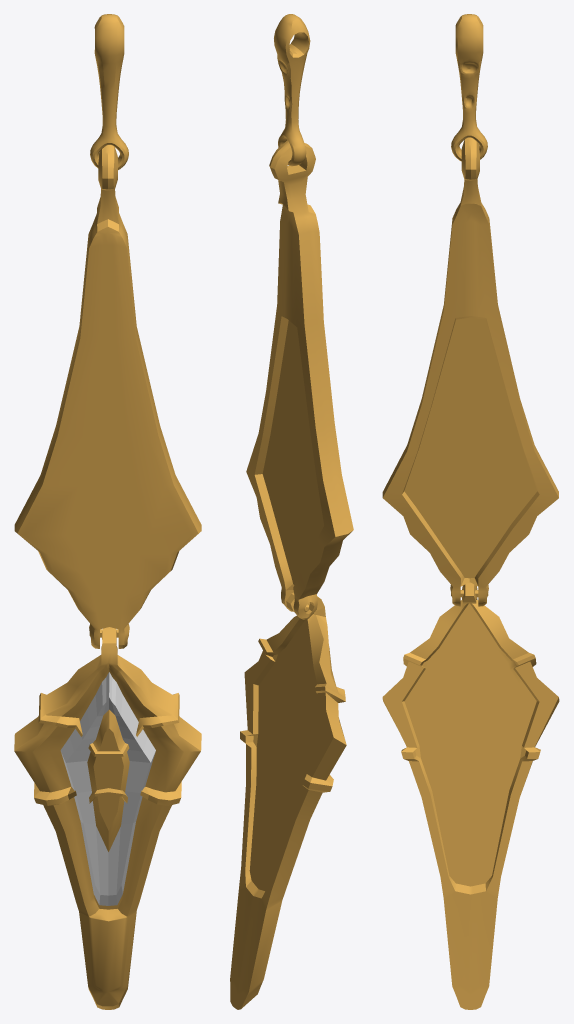
The model's file is MDL_Single_Parts_Medallion_01.fbx.
3 views of the same model, side by side, from view 1: azimuth 90°, elevation 25°; view 2: azimuth 210°, elevation 25°; view 3: azimuth 270°, elevation 25° (orthographic). The views are drawn at different scales.
Parts seen in each view (by area): view 1: MDL_Medallion_Top_01, MDL_Medallion_Bottom_01, MDL_Medallion_Diamond_01; view 2: MDL_Medallion_Top_01, MDL_Medallion_Bottom_01; view 3: MDL_Medallion_Top_01, MDL_Medallion_Bottom_01.
Part boxes in pixels (<box>): MDL_Medallion_Top_01: <box>14,14,201,648</box>; MDL_Medallion_Bottom_01: <box>14,627,201,1009</box>; MDL_Medallion_Diamond_01: <box>60,672,155,905</box>; MDL_Medallion_Top_01: <box>246,14,353,619</box>; MDL_Medallion_Bottom_01: <box>230,593,346,1009</box>; MDL_Medallion_Top_01: <box>382,14,558,606</box>; MDL_Medallion_Bottom_01: <box>382,582,559,1009</box>.
Bounding box in the file's own units: 9.48 × 98.59 × 16.36.
